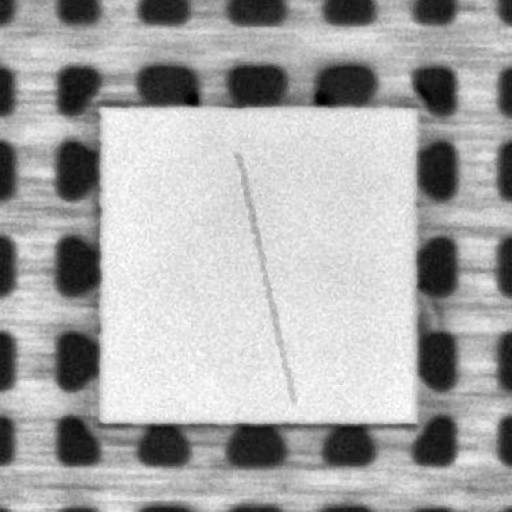DIE_CRACK: (236, 153, 292, 402)
